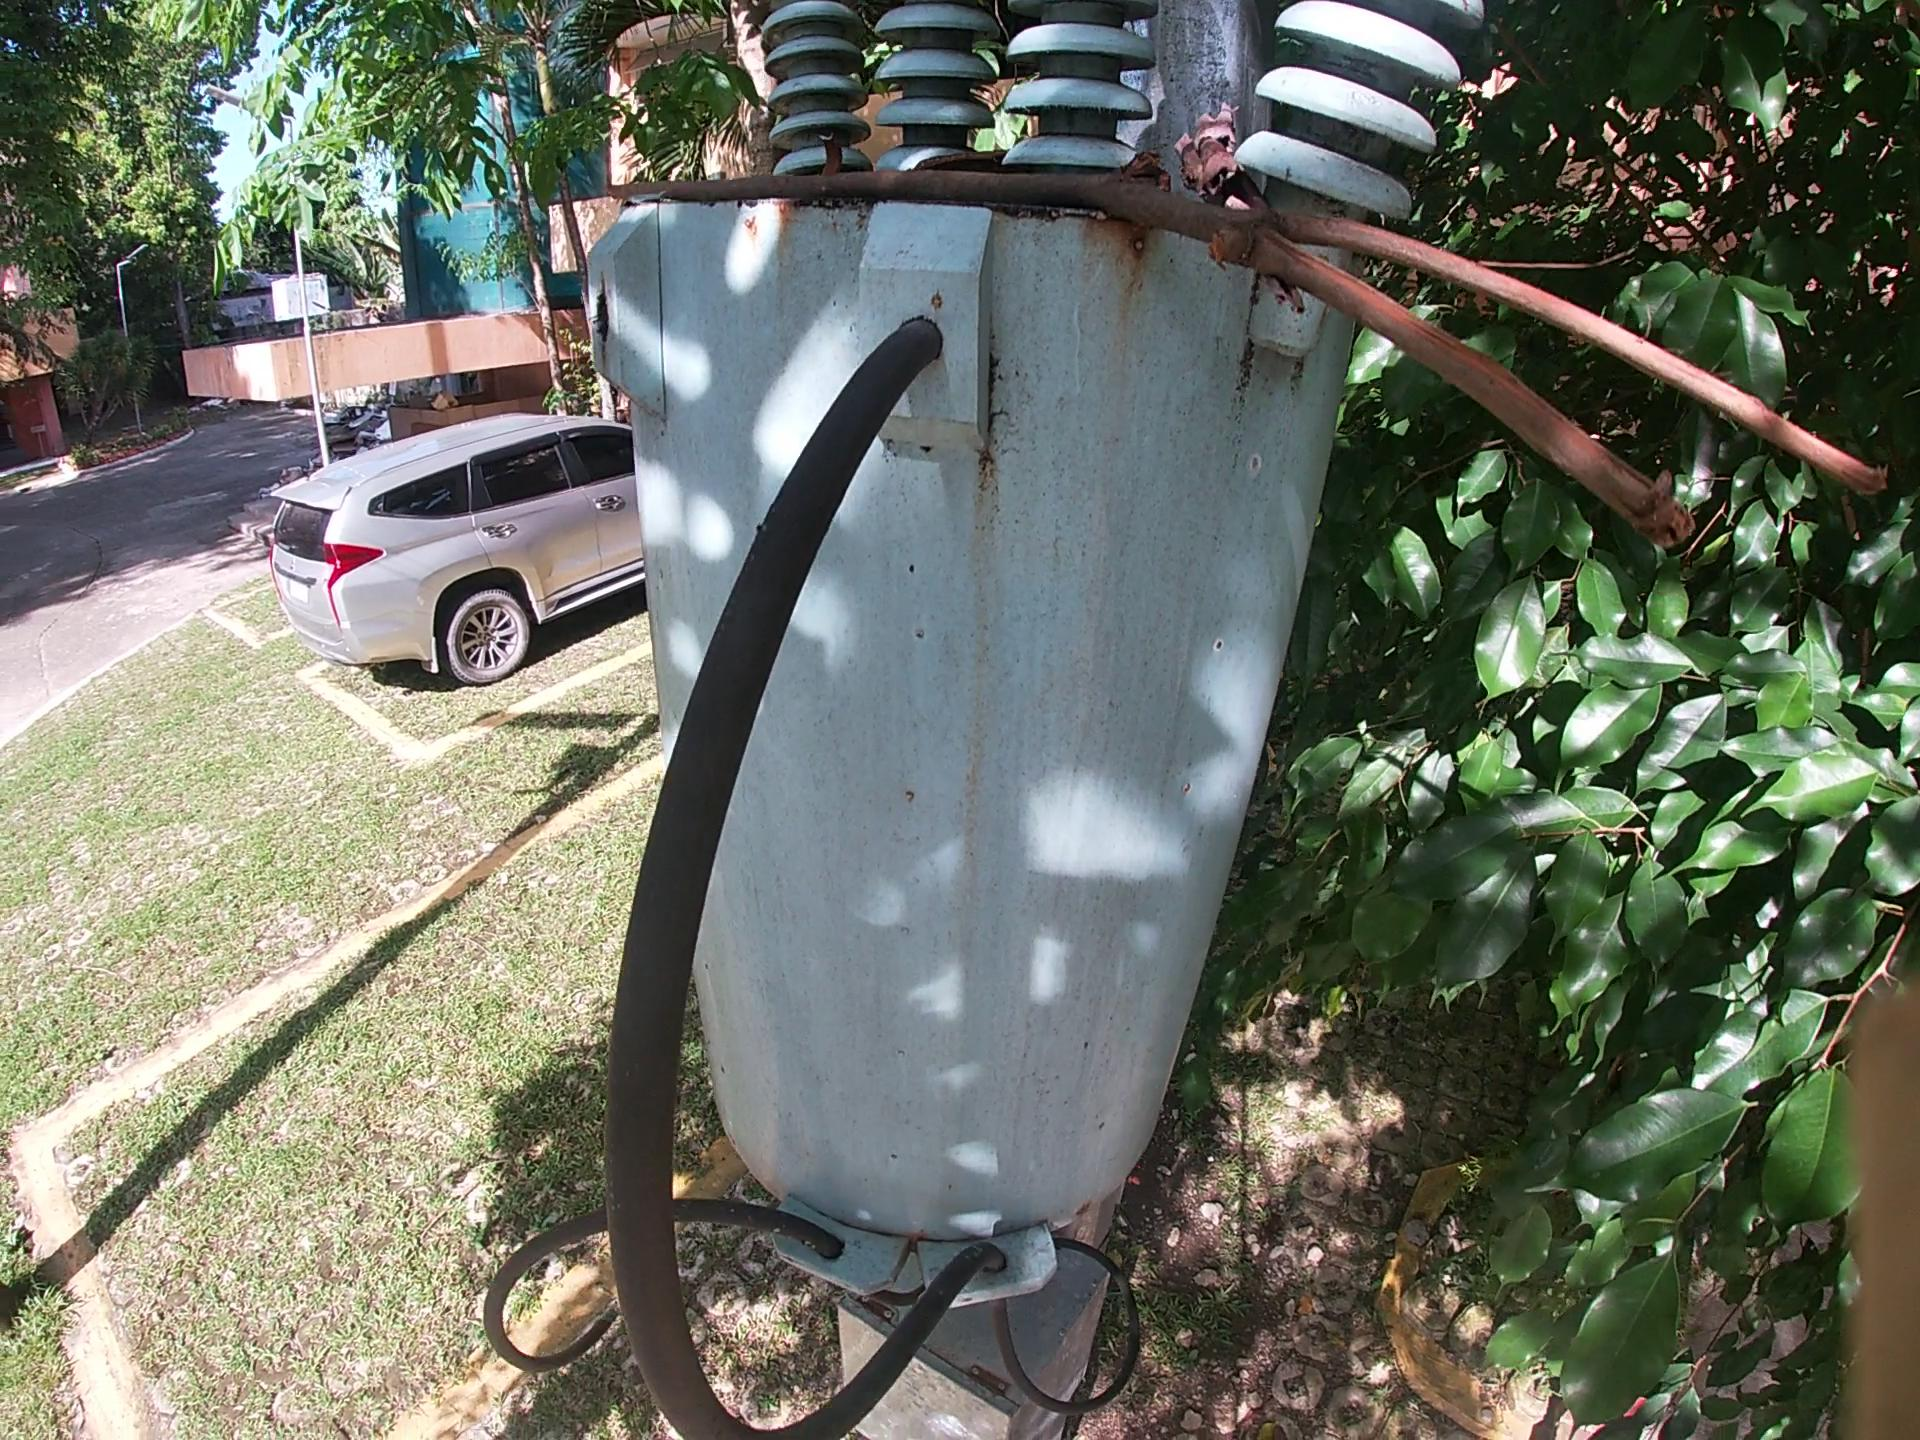mahogany fruit: (900, 151, 996, 174), (807, 127, 856, 172), (1119, 145, 1181, 178)
tree branch: (597, 166, 1897, 613), (1176, 91, 1333, 342)
